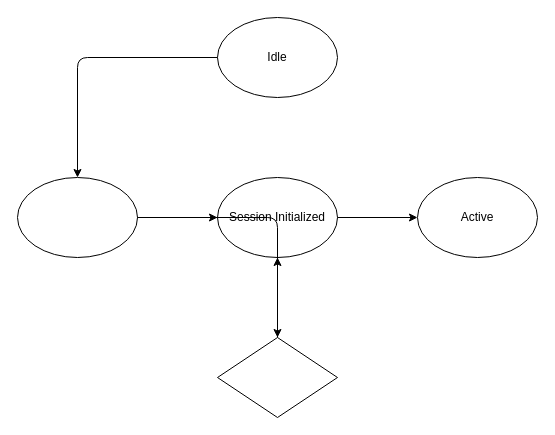
Image size: 555x435. Some labels were removed from this diagram. The centre of each missing label's shape, as x and y in pixels:
"Error / Fallback" belongs at point 277,377.
"Workspace Detected" belongs at point 77,217.
